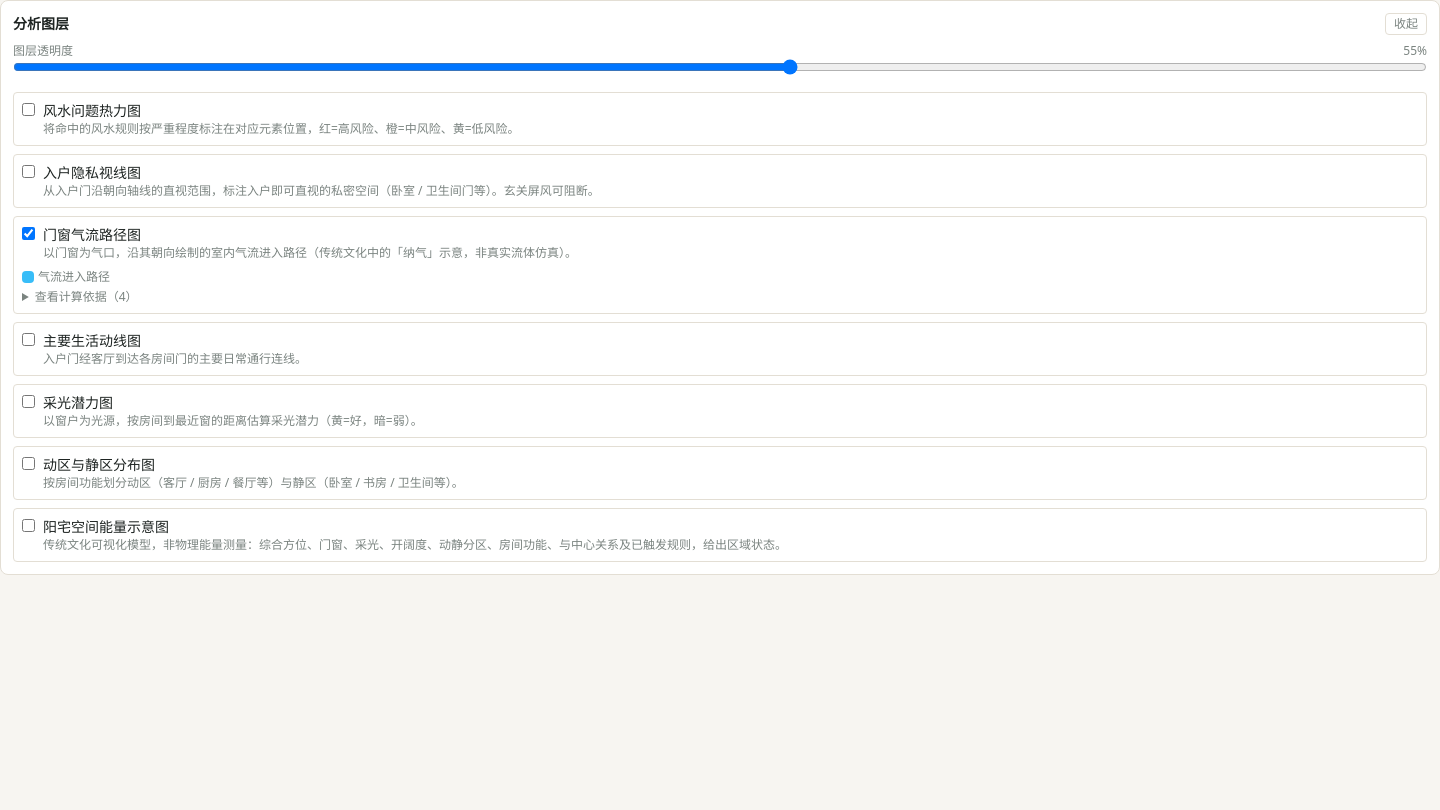
Scenario: 图层控制面板 · 路径依据 › 气流/动线等 line 图层也能在面板查看计算依据
Click the heading "查看计算依据（4）". click: coordinates (86, 296)
box: [35,288,138,305]
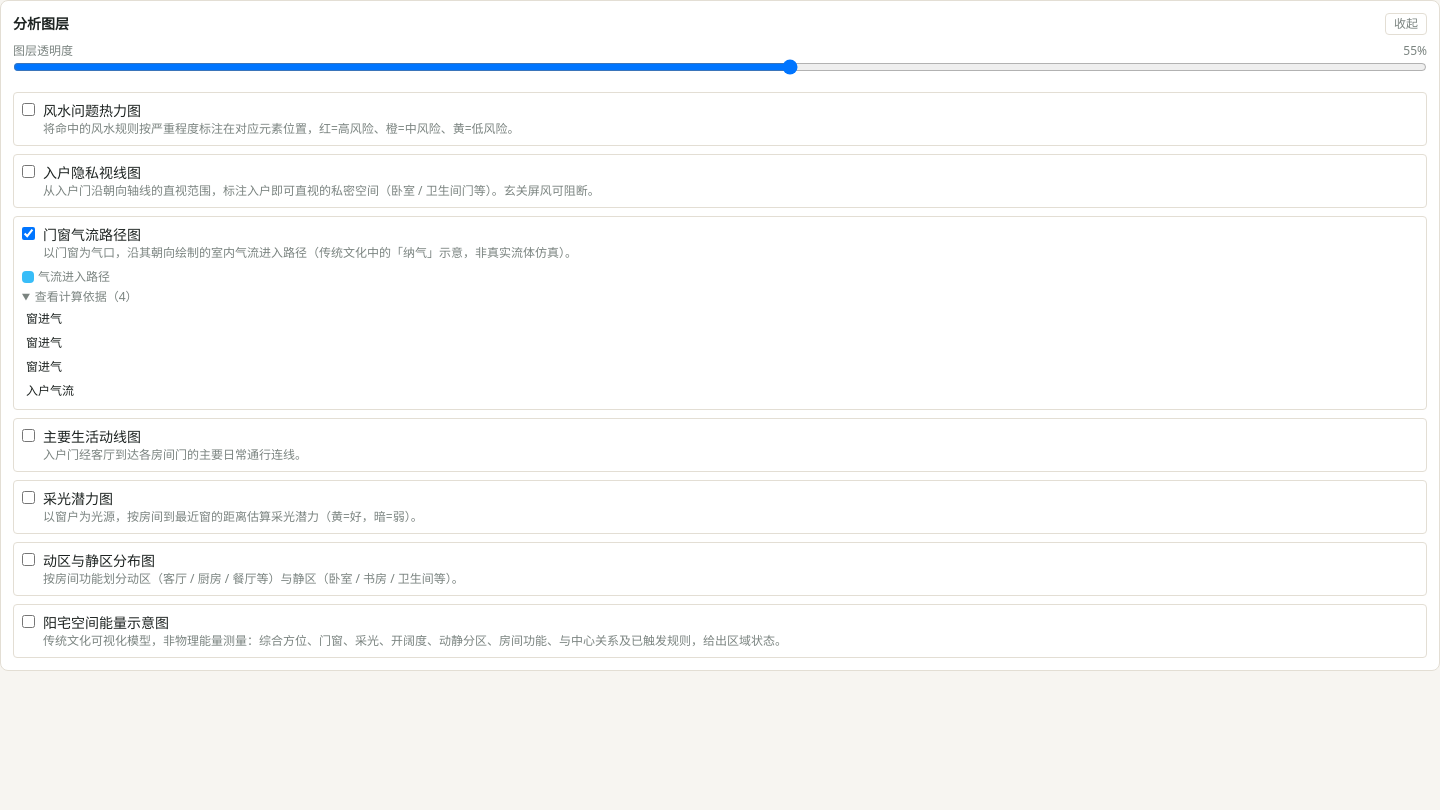
Click the 1st button "窗进气". click: coordinates (44, 318)
box: [22,309,1418,329]
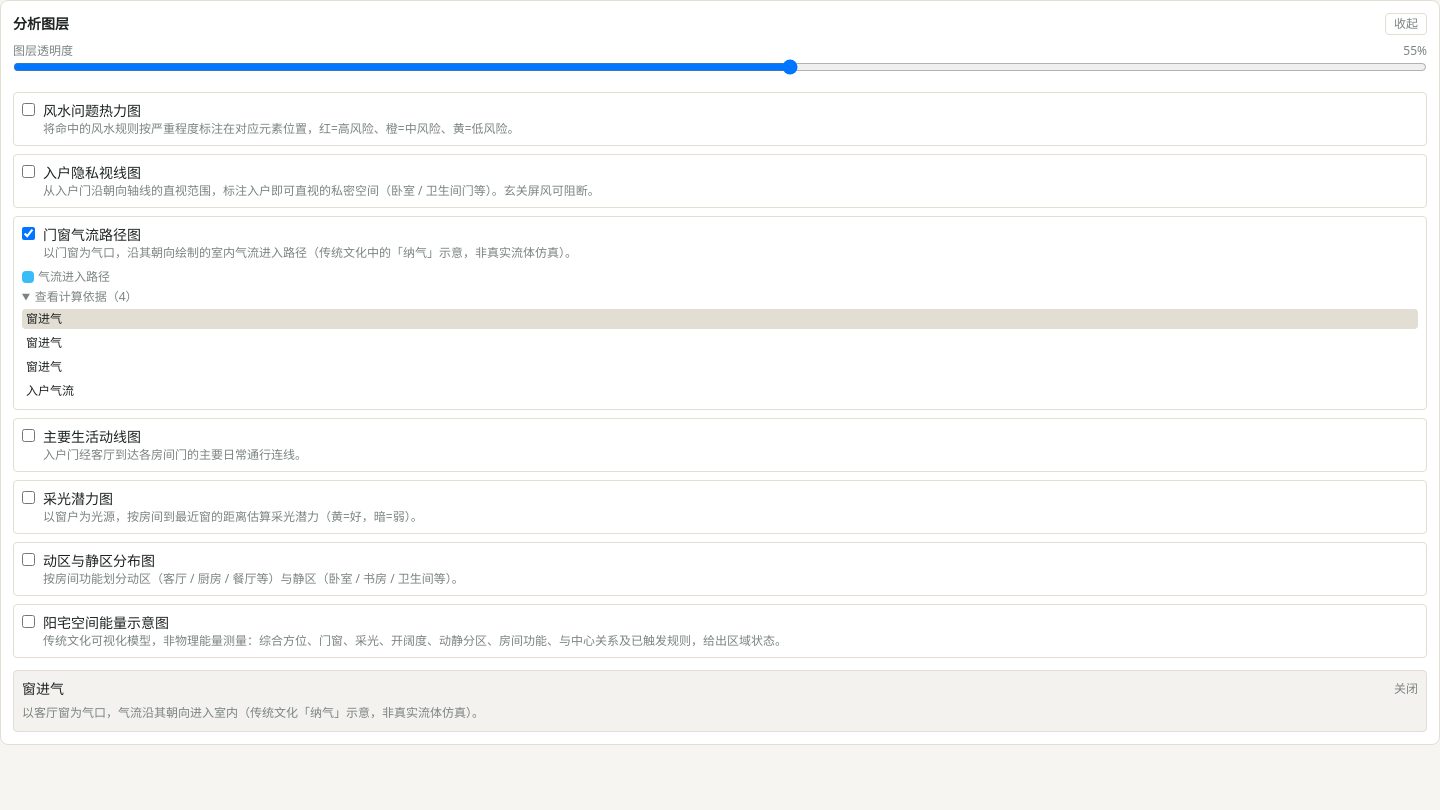
expect the text "为气口，气流沿其朝向进入室内" is shown: met, box [22,704,484,721]
